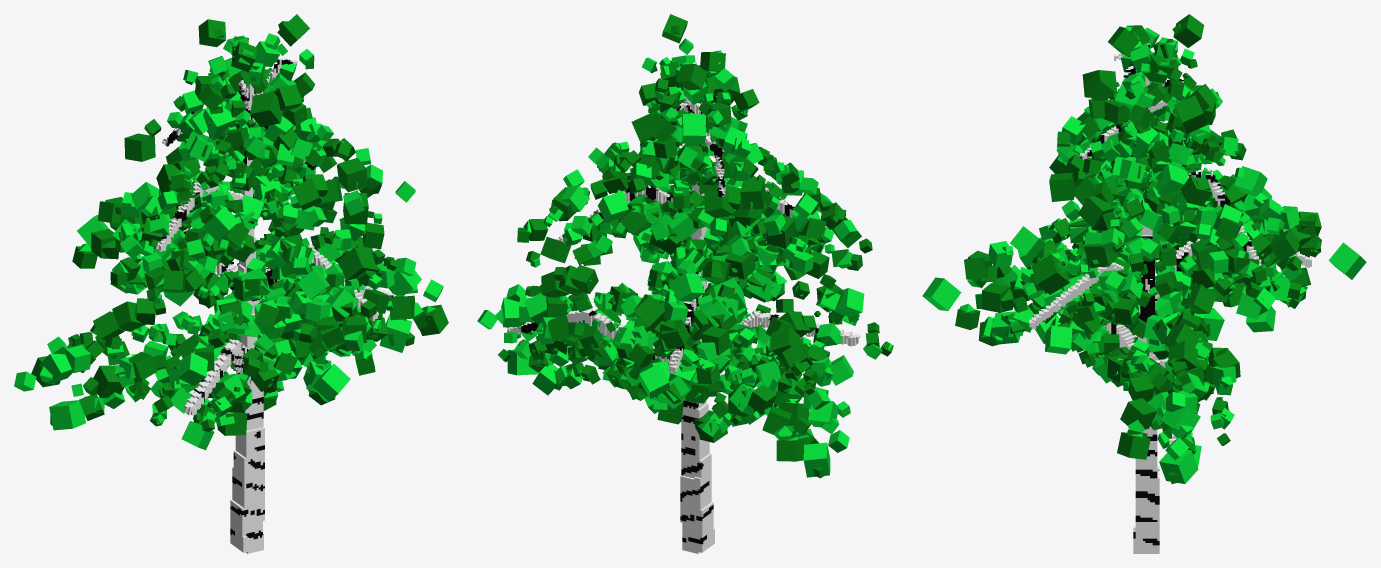
Rendered from воксель берёза.dae.
3 views of the same model, side by side, from view 1: azimuth 30°, elevation 25°; view 2: azimuth 150°, elevation 25°; view 3: azimuth 270°, elevation 25° (orthographic). The views are drawn at different scales.
Visible parts, largest first — view 1: Плоскость.001; view 2: Плоскость.001; view 3: Плоскость.001.
Boxes of the visible parts, x1=… form: Плоскость.001: x1=14, y1=14, x2=448, y2=553; Плоскость.001: x1=477, y1=14, x2=893, y2=553; Плоскость.001: x1=922, y1=14, x2=1366, y2=553.
Size of the model in its own units: 4.85 by 4.55 by 6.1.
